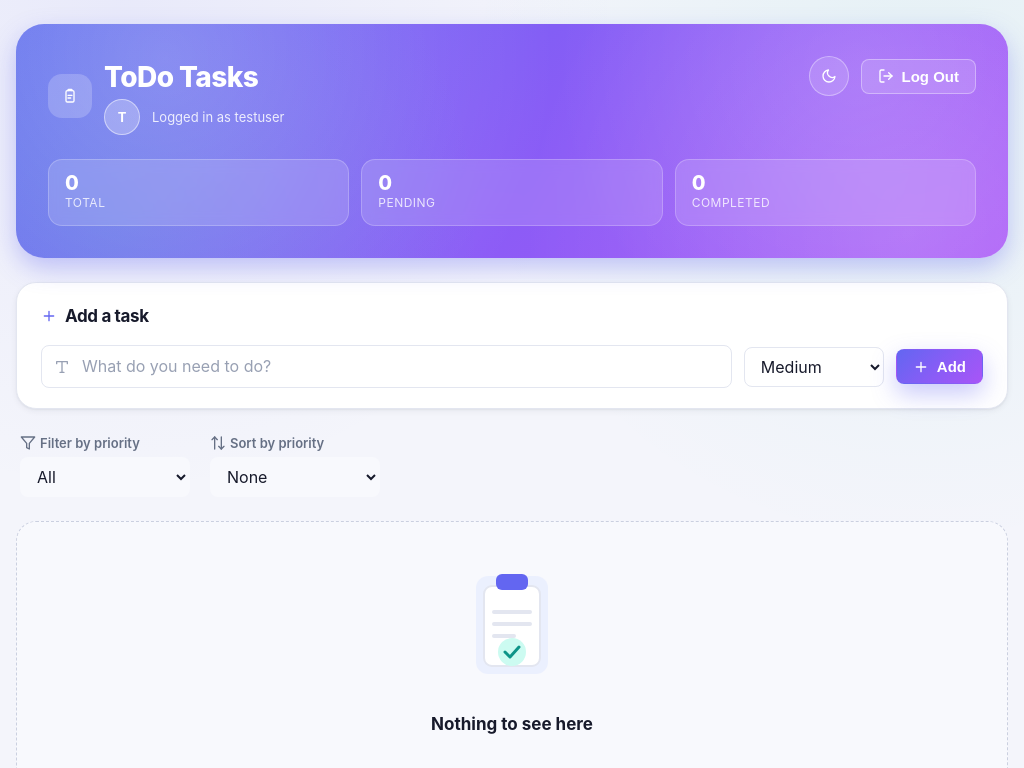
it: App › adds a task
Type "Buy milk" into the field named "New task title" at (400,367), box [82, 346, 719, 387]
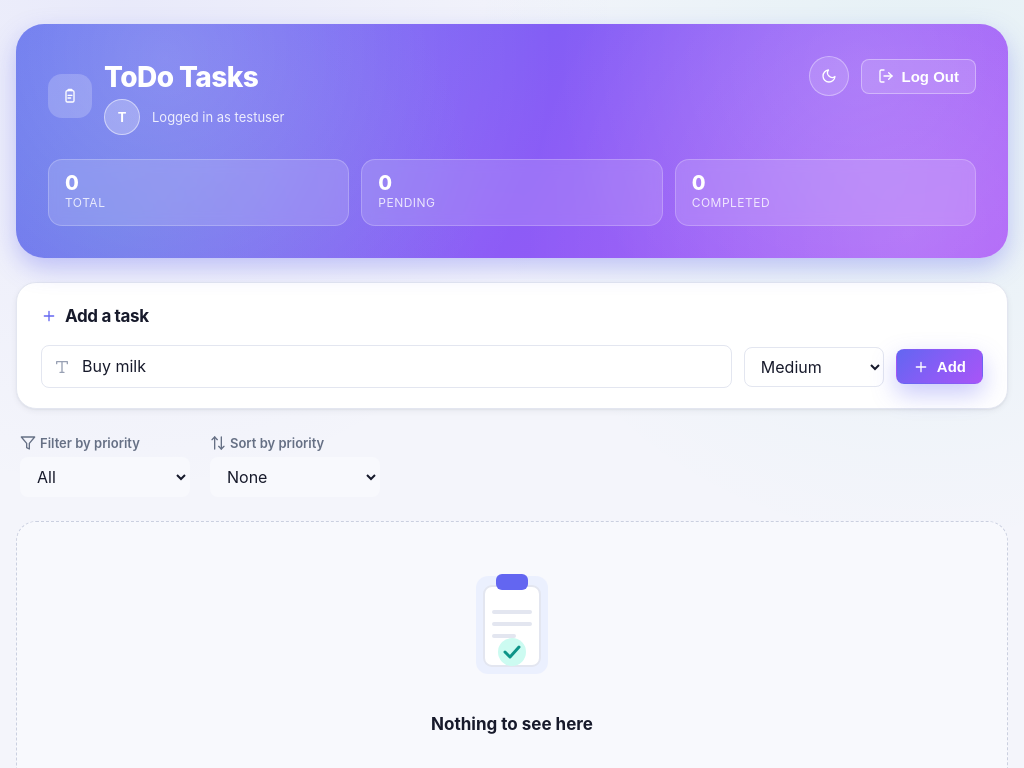
Click the button "Add" at (939,367), box [896, 349, 983, 384]
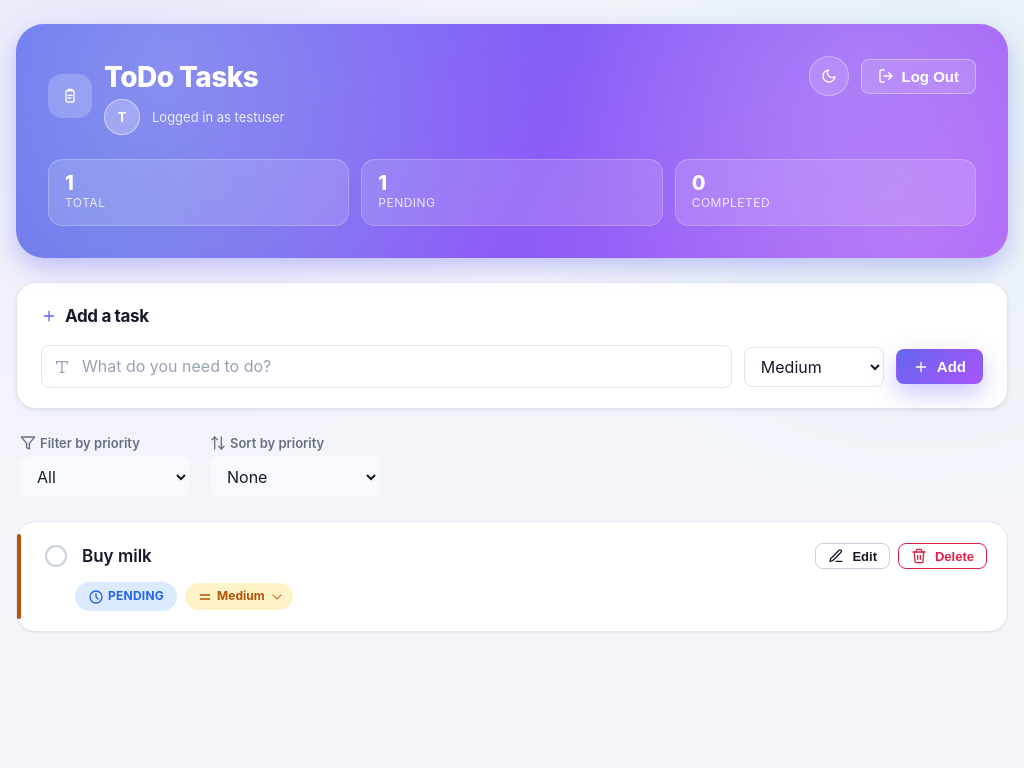
Expected: the text "Buy milk" is shown, [82, 546, 152, 566]
